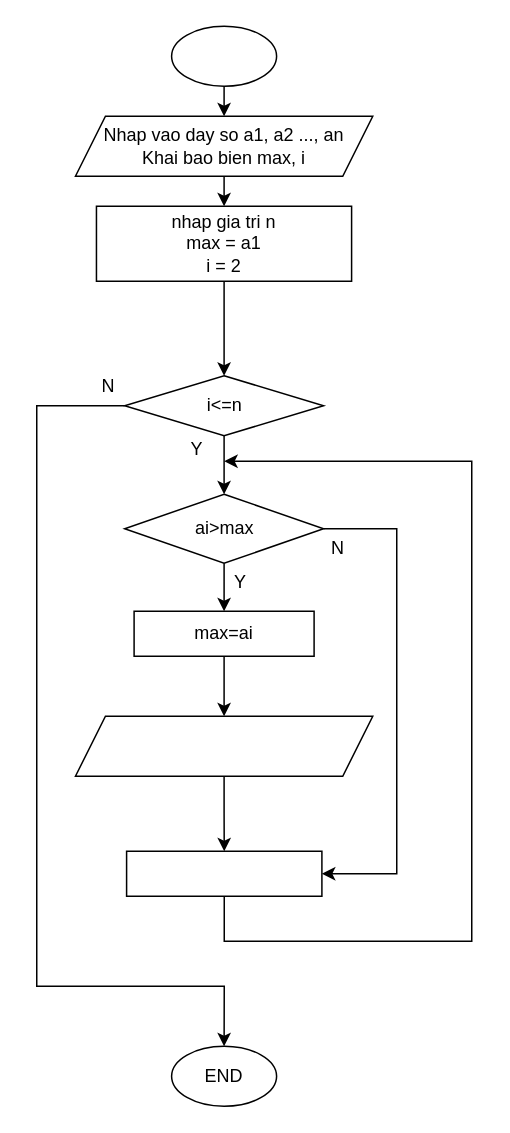
This 510x1133 diagram has some shape labels left out. The centre of each missing label's shape, as x and y in pixels:
"Gia tri lon nhat la:" ai: (x=223, y=745)
i = i ++: (x=223, y=873)
START: (x=223, y=55)
